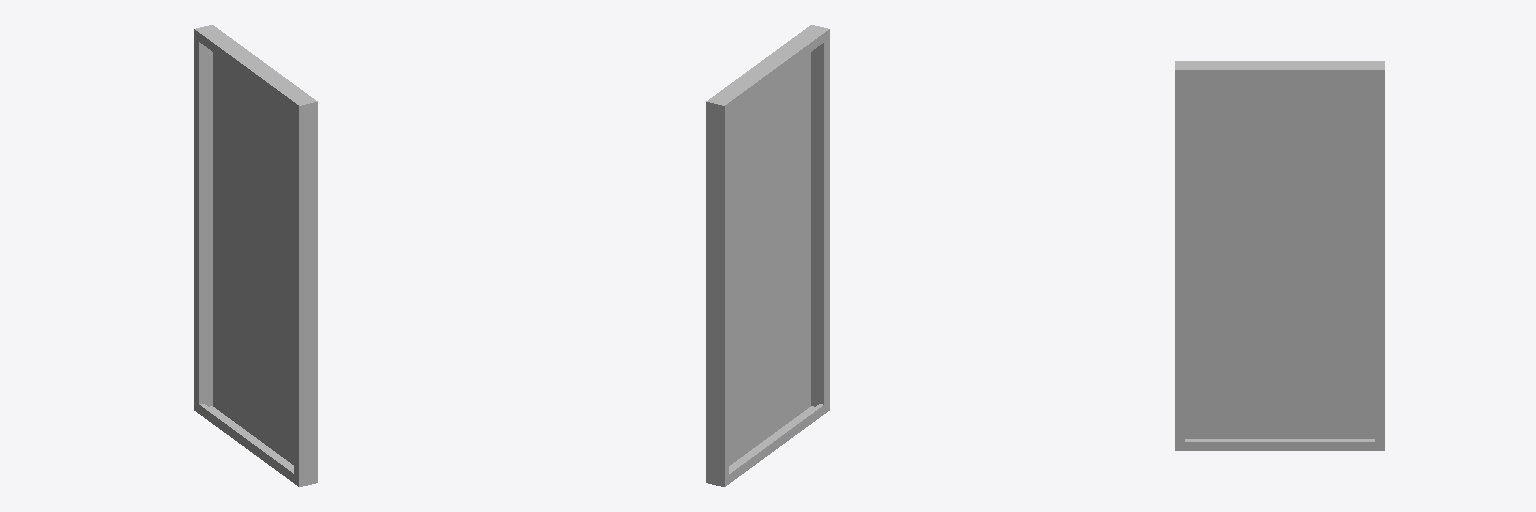
The model's file is Modular_Modern_2x4x0.1_Glass_Pane1.obj.
3 renders of one model, left to right at view 1: azimuth 30°, elevation 25°; view 2: azimuth 150°, elevation 25°; view 3: azimuth 270°, elevation 25°, orthographic.
Parts seen in each view (by area): view 1: Cube; view 2: Cube; view 3: Cube.
Part boxes in pixels (bbox=[...]): Cube: bbox=[194, 25, 317, 486]; Cube: bbox=[706, 25, 829, 486]; Cube: bbox=[1175, 61, 1384, 450].
Bounding box in the file's own units: 0.2 × 4 × 2.